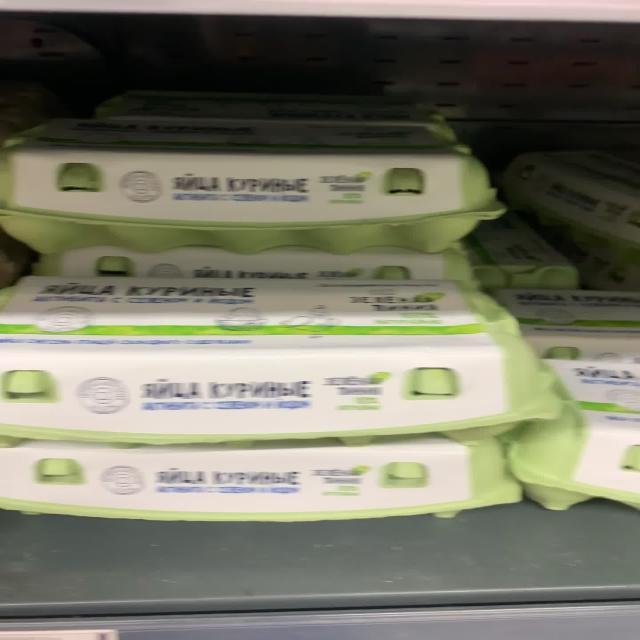egg box: (0, 270, 562, 449), (0, 113, 507, 257), (2, 436, 517, 523)
